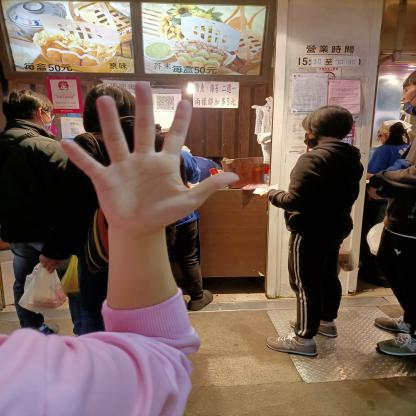bare_hand: (52, 78, 246, 235)
